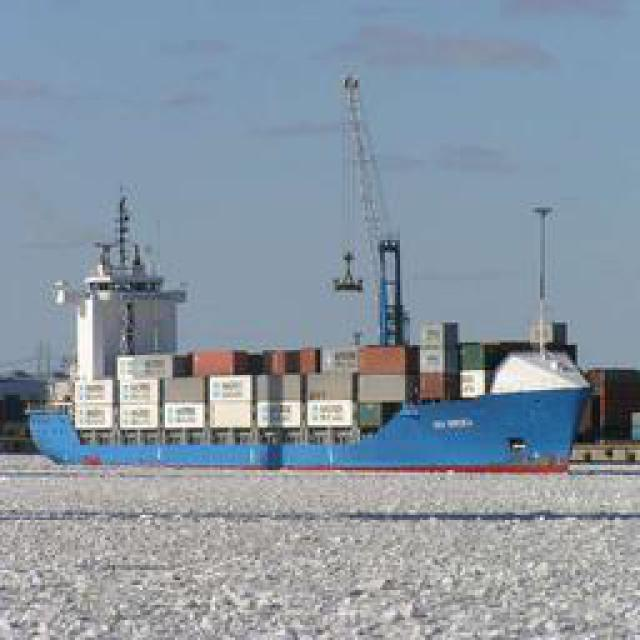Ship: (12, 106, 602, 504)
